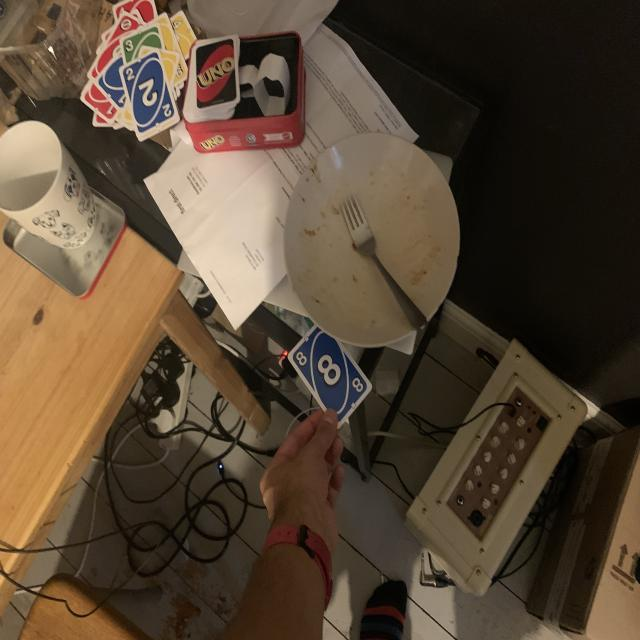lblue-2: (124, 66, 137, 82)
lblue-8: (293, 350, 311, 369)
lgreen-3: (124, 38, 134, 54)
lredskip-20: (120, 17, 131, 32)
lyellow-4: (170, 17, 184, 32)
